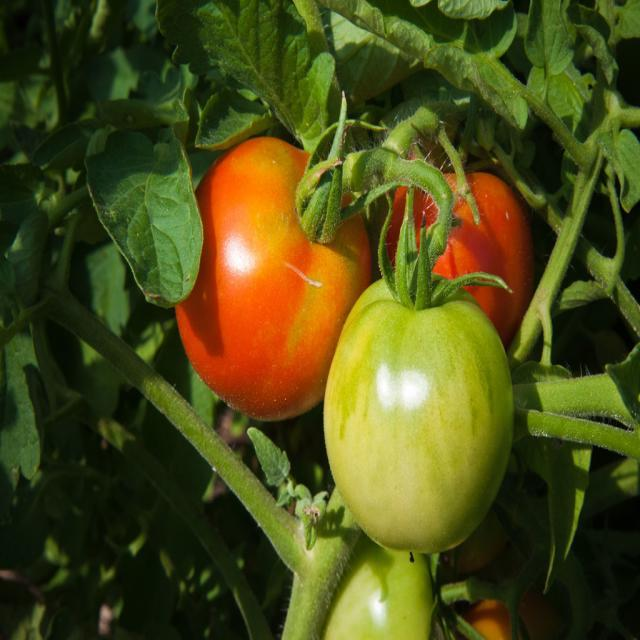Tomato: (182, 132, 380, 430), (321, 268, 507, 557), (378, 164, 548, 334), (439, 517, 563, 639), (322, 547, 447, 640)
